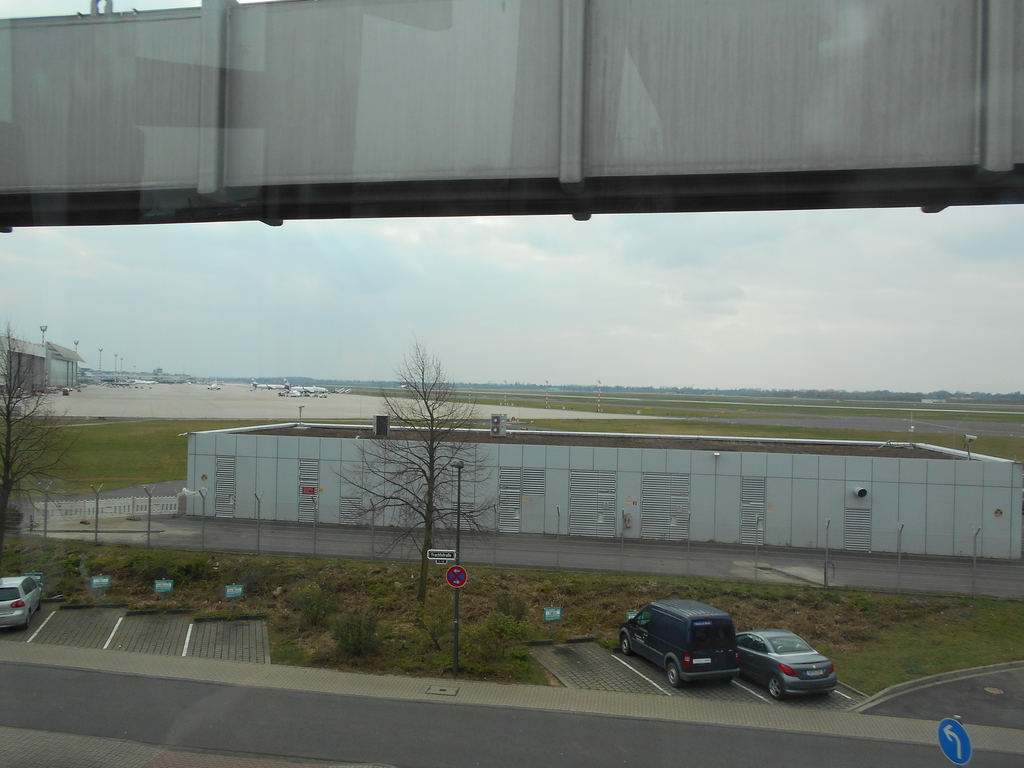Car: (735, 628, 839, 702), (0, 570, 44, 634)
